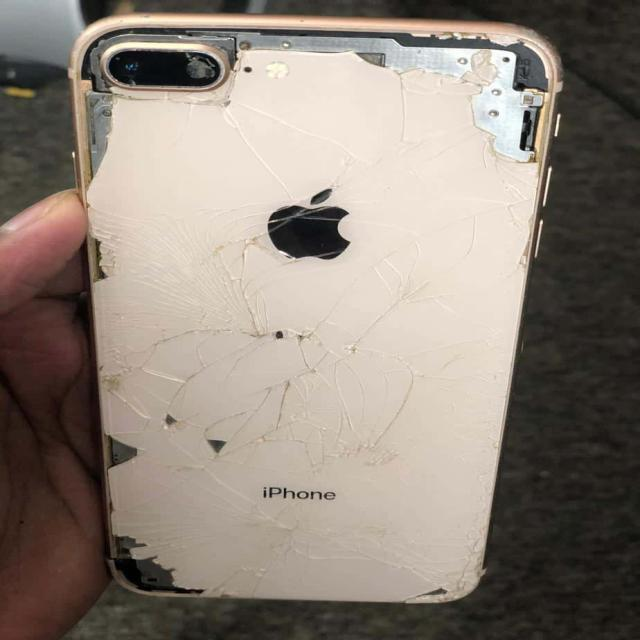Crack: (64, 23, 559, 612)
